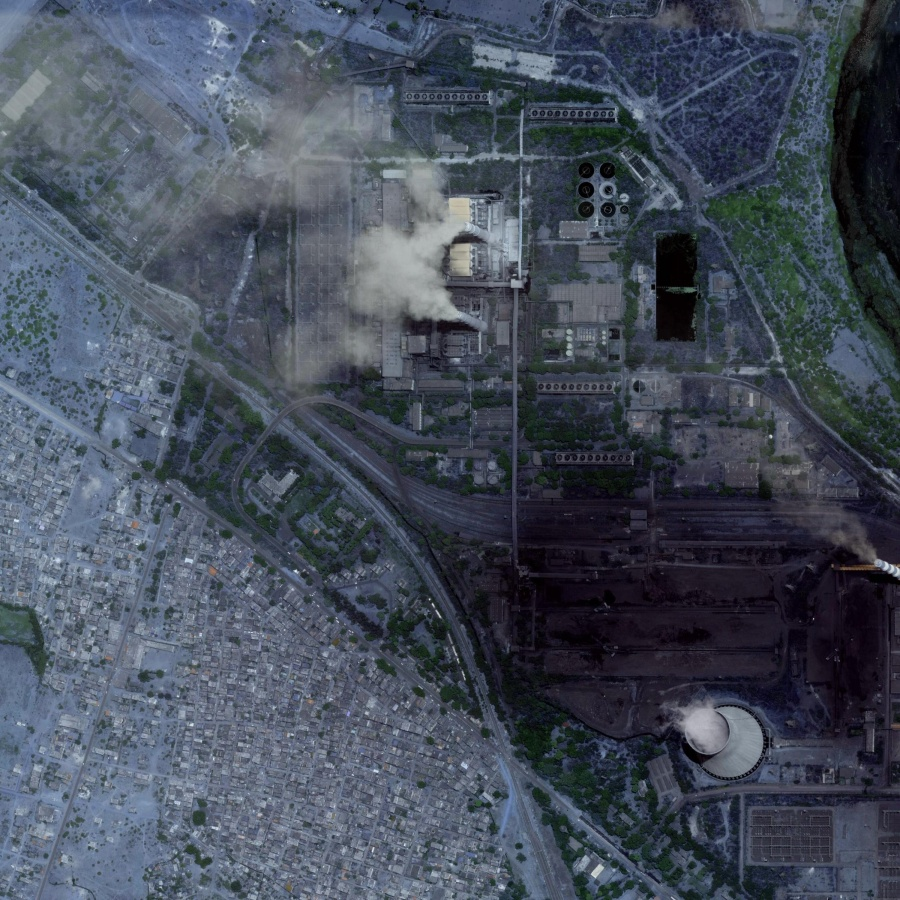PowerPlant: (298, 82, 570, 402)
